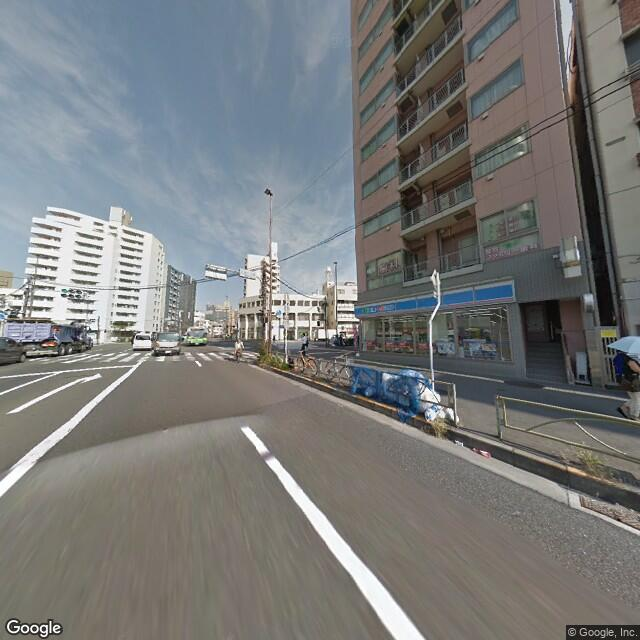lawson: (352, 274, 518, 322)
